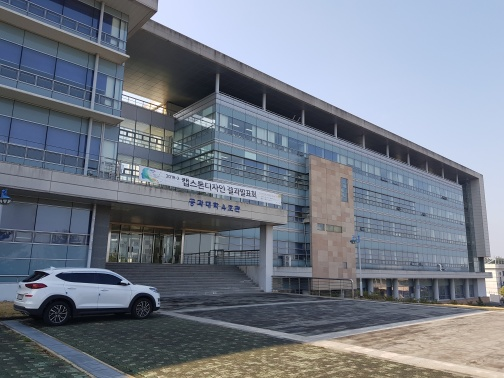Engineering College Building 4: (21, 38, 473, 260), (286, 126, 494, 304), (128, 80, 269, 276)
